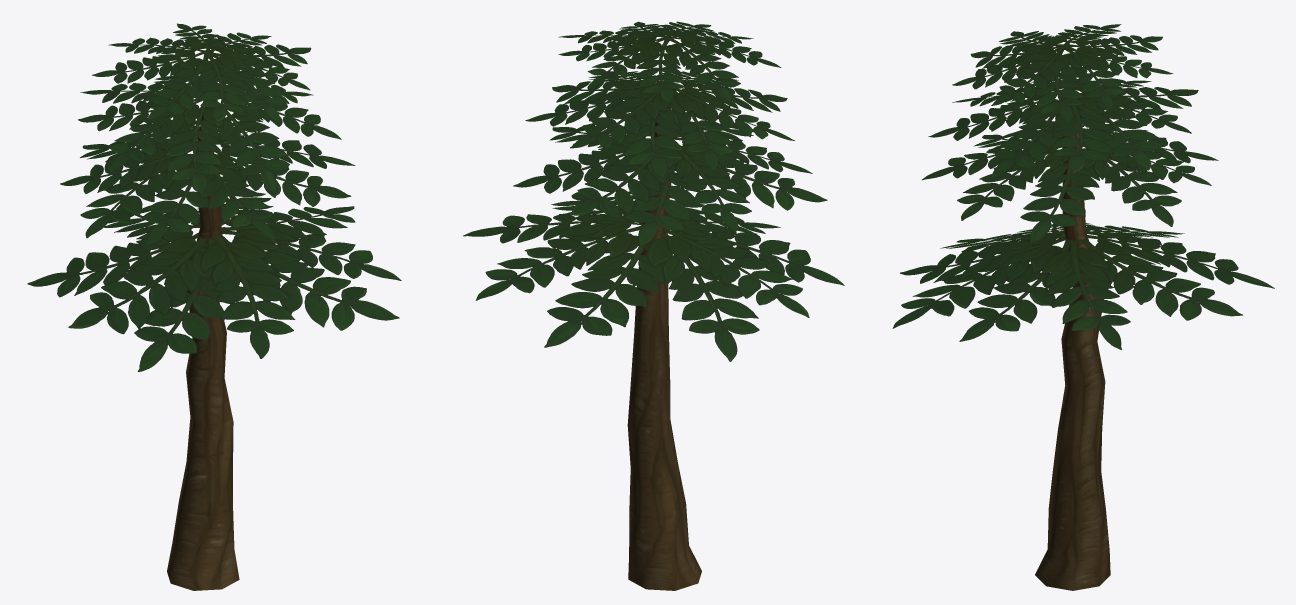
Rendered from Tree_03.fbx.
3 renders of one model, left to right at view 1: azimuth 30°, elevation 25°; view 2: azimuth 150°, elevation 25°; view 3: azimuth 270°, elevation 25°, orthographic.
Parts seen in each view (by area): view 1: Leaves_03, Trunk_03; view 2: Leaves_03, Trunk_03; view 3: Leaves_03, Trunk_03.
Part boxes in pixels (box(x1,y1,x2,y2)): Leaves_03: box(27, 23, 401, 371); Trunk_03: box(167, 100, 239, 590); Leaves_03: box(463, 21, 844, 361); Trunk_03: box(627, 84, 701, 590); Leaves_03: box(892, 24, 1274, 349); Trunk_03: box(1035, 97, 1110, 590).
Size of the model in its own units: 7.63 by 9.64 by 6.66.
2 materials, 2 textured.
